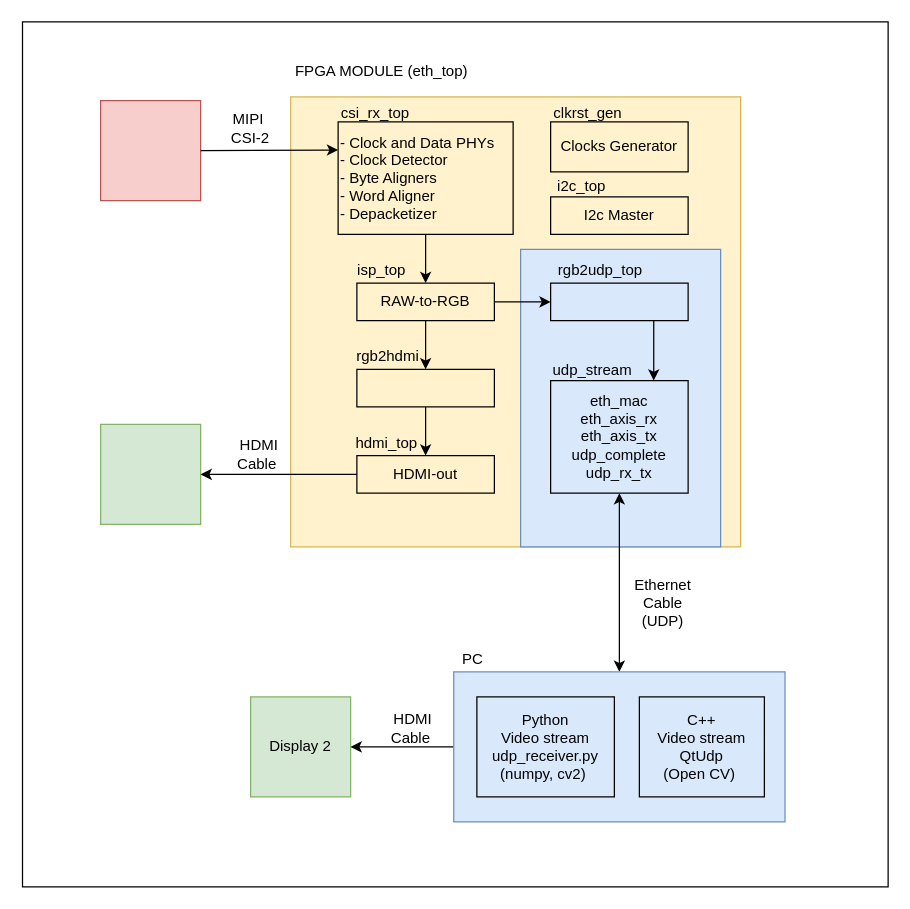
This 910x909 diagram has some shape labels left out. The centre of each missing label's shape, as x and y in pixels:
CMOS Camera: the point at 150,150
Display 1: the point at 150,473
RGB-to-HDMI: the point at 425,387
RGB-to-UDP: the point at 618,301
